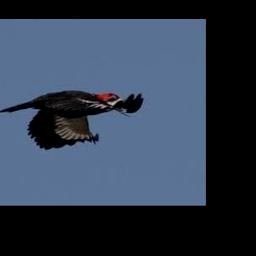Woodpecker: (0, 90, 143, 150)
